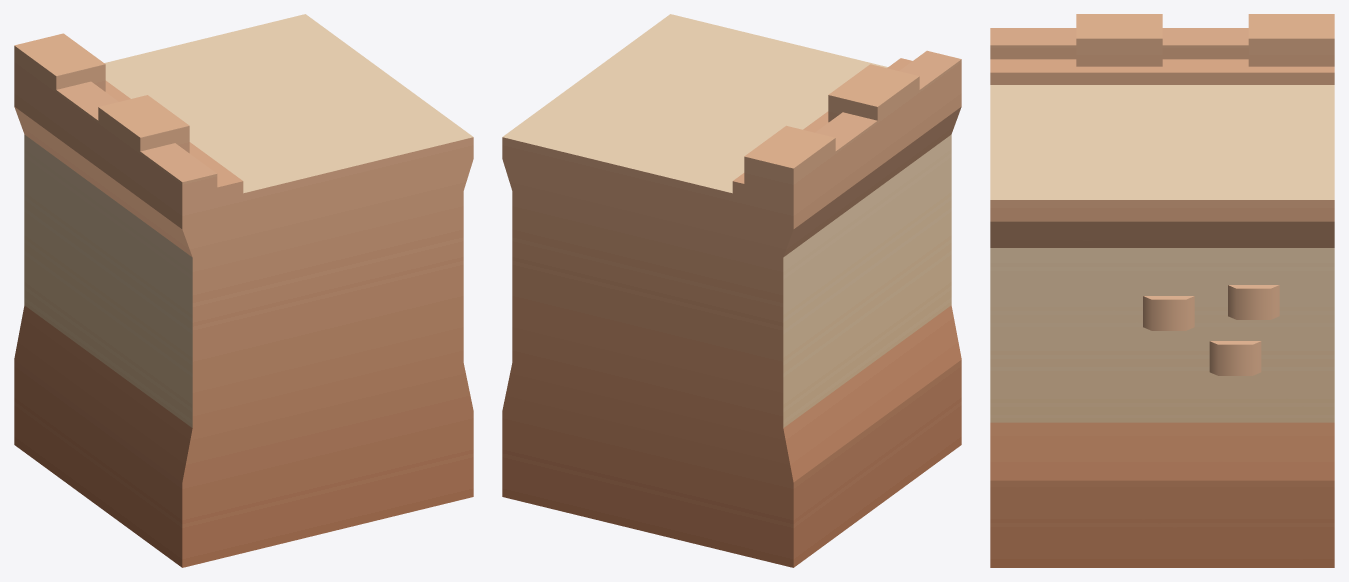
File: wall-half.glb
3 views of the same model, side by side, from view 1: azimuth 30°, elevation 25°; view 2: azimuth 150°, elevation 25°; view 3: azimuth 270°, elevation 25° (orthographic). The views are drawn at different scales.
Visible parts, largest first — view 1: wall-half; view 2: wall-half; view 3: wall-half.
Part boxes in pixels (x1=…): wall-half: x1=14, y1=14, x2=473, y2=567; wall-half: x1=502, y1=14, x2=961, y2=567; wall-half: x1=990, y1=14, x2=1334, y2=567.
Size of the model in its own units: 1 by 1.31 by 1.
1 material, 1 textured.
